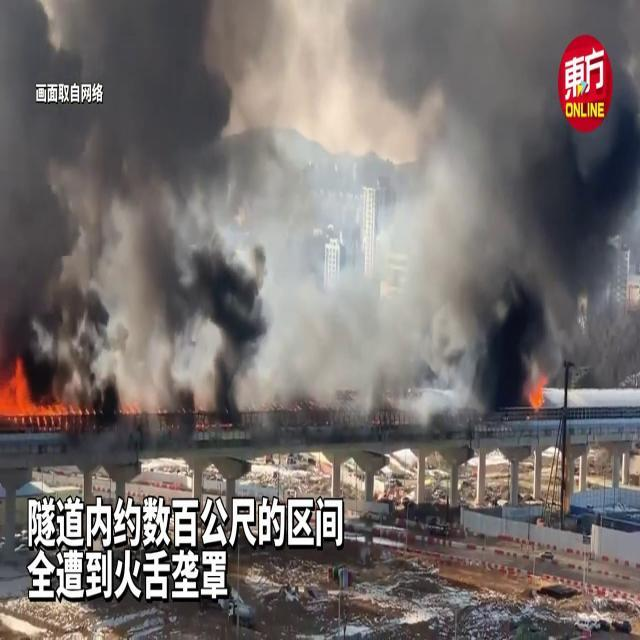Fire: (0, 356, 78, 430), (525, 366, 553, 414)
Smoke: (1, 1, 637, 427)
